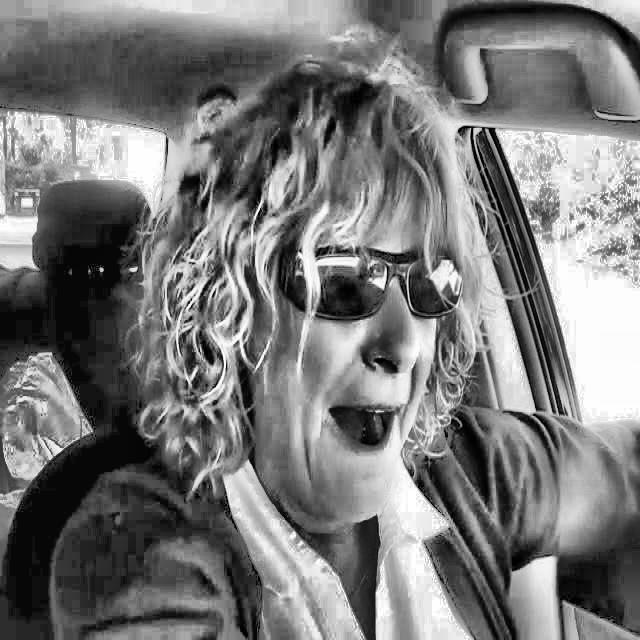open_mouth: (311, 381, 424, 474)
